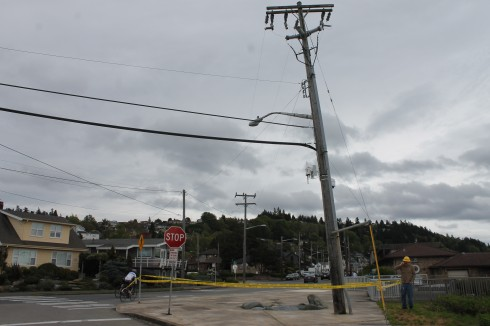utility_pole: (258, 1, 338, 66)
